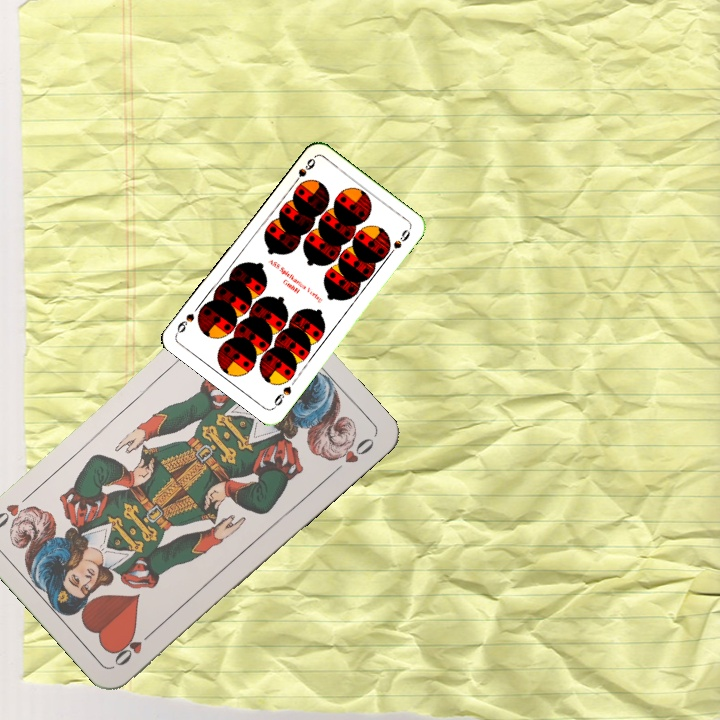HO: (110, 625, 159, 669)
S9: (288, 154, 318, 188), (269, 382, 294, 411)
